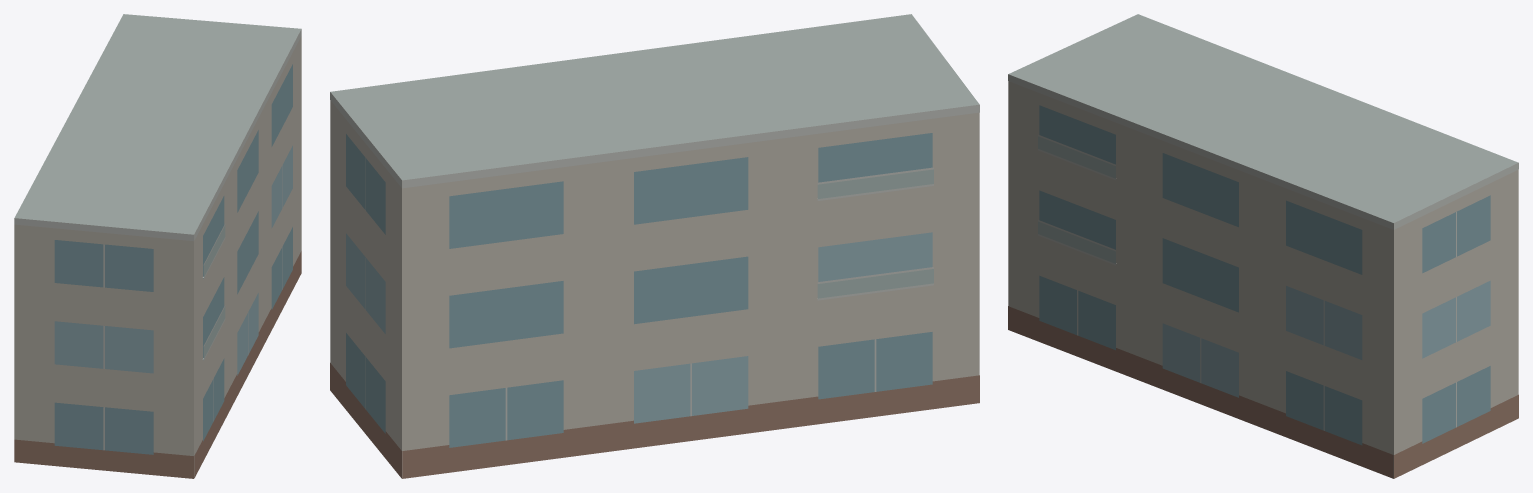
Rendered from survey-upis-32888105.glb.
The picture shows the model from 3 angles, left to right: view 1: azimuth 30°, elevation 25°; view 2: azimuth 150°, elevation 25°; view 3: azimuth 270°, elevation 25°; orthographic projection. The views are drawn at different scales.
Parts seen in each view (by area): view 1: survey-upis-32888105.tmp; view 2: survey-upis-32888105.tmp; view 3: survey-upis-32888105.tmp.
Part boxes in pixels (left/top/right/bottom): survey-upis-32888105.tmp: left=14, top=14, right=301, bottom=478; survey-upis-32888105.tmp: left=330, top=14, right=979, bottom=478; survey-upis-32888105.tmp: left=1008, top=14, right=1518, bottom=478.
Bounding box in the file's own units: 16.06 × 9.15 × 16.57.
